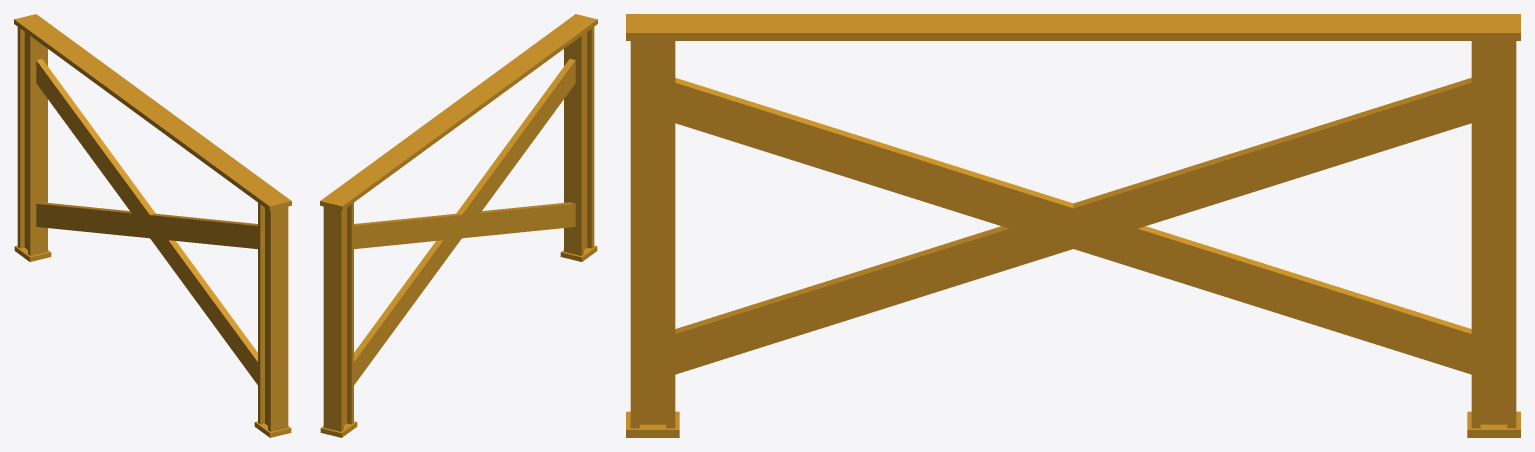
The model's file is Catwalk_Support_1m_Cross.fbx.
3 views of the same model, side by side, from view 1: azimuth 30°, elevation 25°; view 2: azimuth 150°, elevation 25°; view 3: azimuth 270°, elevation 25° (orthographic). The views are drawn at different scales.
Visible parts, largest first — view 1: Catwalk_Support_1m_Cross; view 2: Catwalk_Support_1m_Cross; view 3: Catwalk_Support_1m_Cross.
Boxes of the visible parts, box(x1,y1,x2,y2) form: Catwalk_Support_1m_Cross: box(14, 14, 291, 437); Catwalk_Support_1m_Cross: box(320, 14, 597, 437); Catwalk_Support_1m_Cross: box(626, 14, 1520, 437).
Size of the model in its own units: 10 by 100 by 200.
